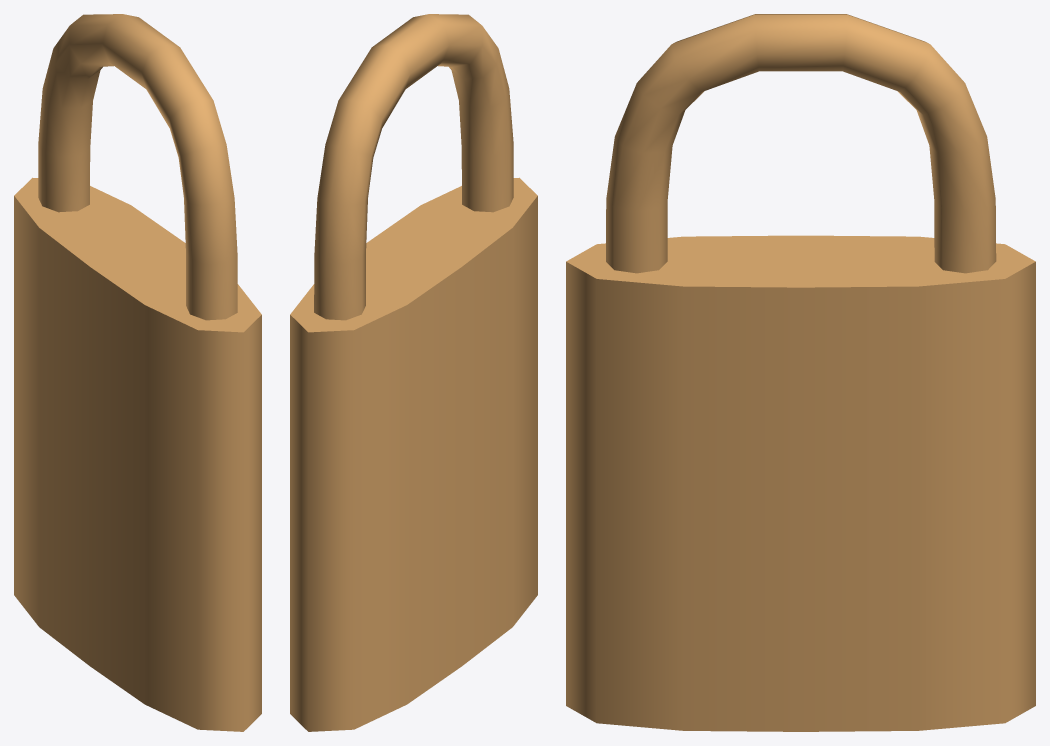
File: SM_PadLock.fbx
3 renders of one model, left to right at view 1: azimuth 30°, elevation 25°; view 2: azimuth 150°, elevation 25°; view 3: azimuth 270°, elevation 25°, orthographic. The views are drawn at different scales.
Visible parts, largest first — view 1: SM_PadLockFull; view 2: SM_PadLockFull; view 3: SM_PadLockFull.
Part boxes in pixels (box(x1,y1,x2,y2)): SM_PadLockFull: box(14, 14, 261, 731); SM_PadLockFull: box(290, 14, 537, 731); SM_PadLockFull: box(566, 14, 1035, 731).
Bounding box in the file's own units: 5.03 × 31.23 × 19.17.
